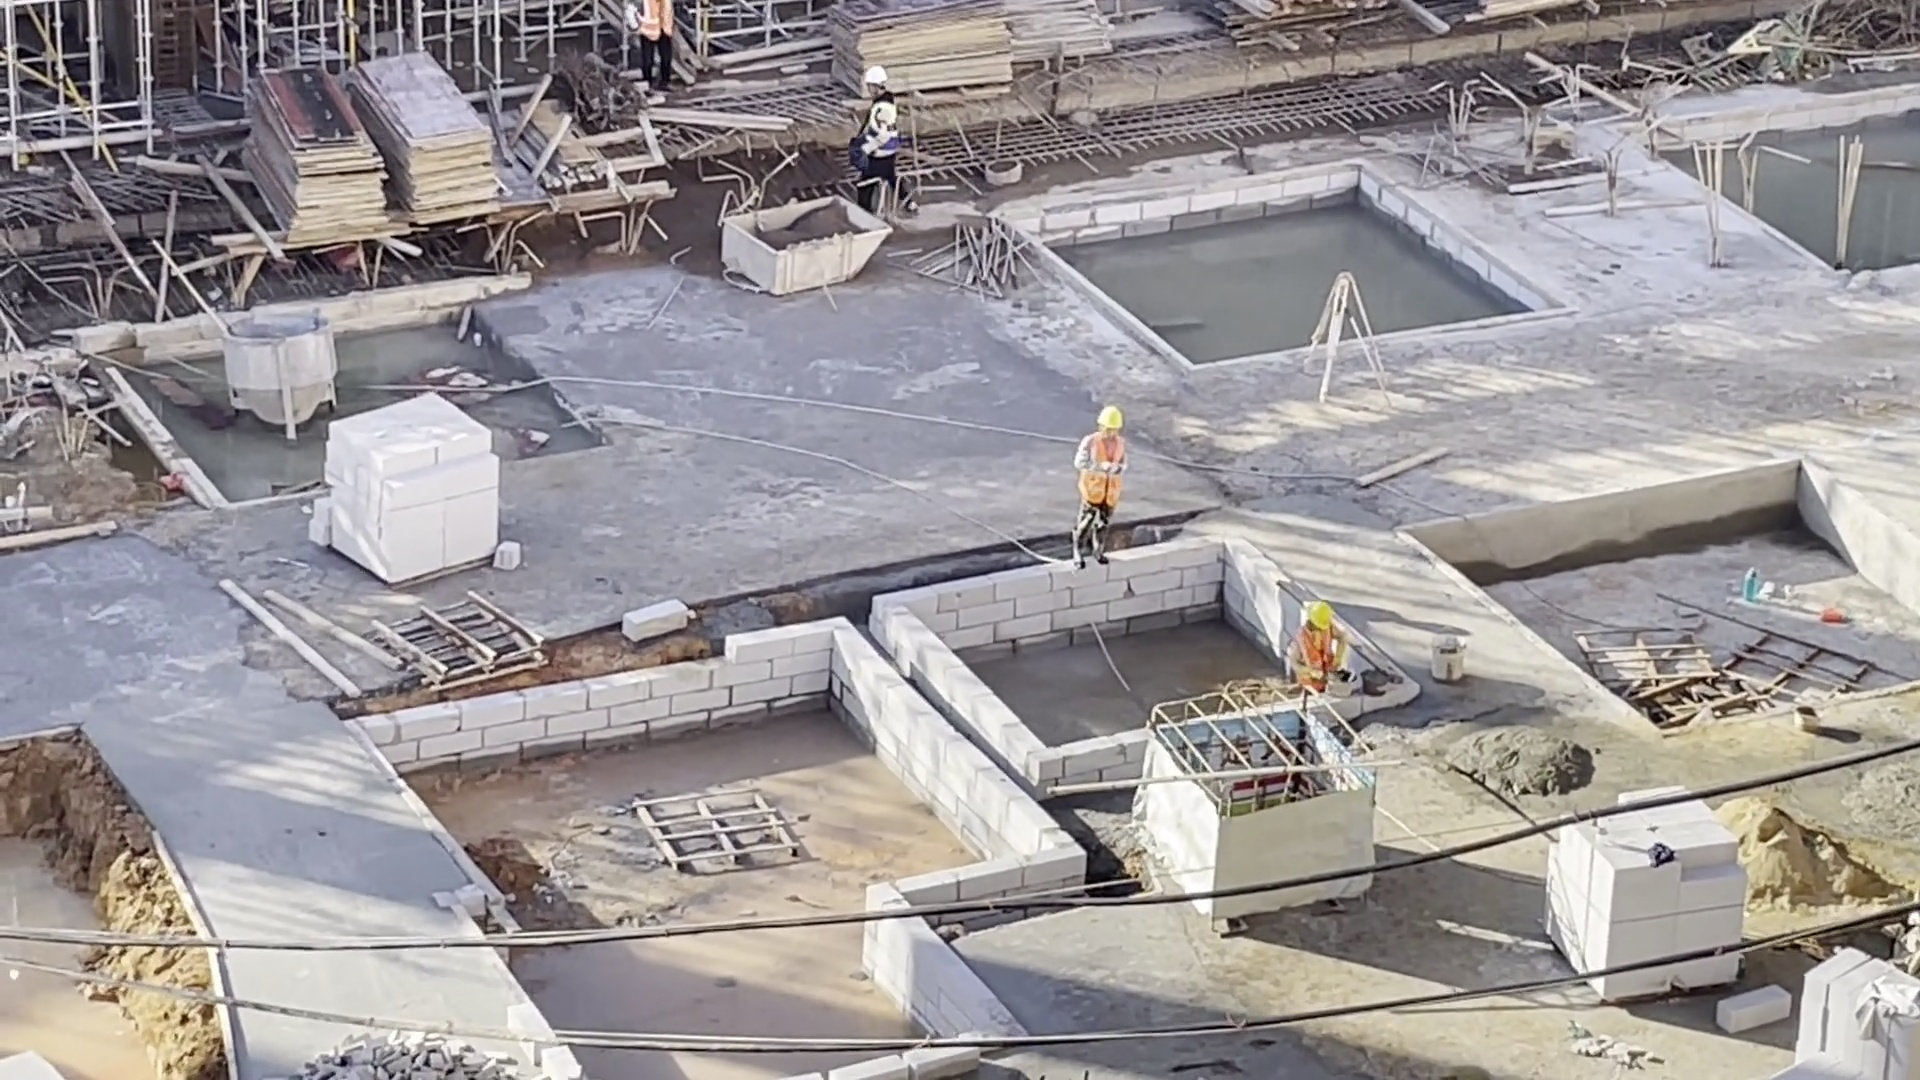board: (345, 45, 514, 223), (236, 65, 392, 249), (825, 4, 1019, 101)
brick: (315, 387, 498, 586), (1541, 832, 1752, 948), (1776, 939, 1913, 1080)
helmet: (1303, 599, 1337, 631), (1097, 405, 1126, 435), (861, 64, 891, 84)
hopper: (207, 301, 340, 442), (711, 197, 899, 295)
person: (1069, 406, 1135, 571), (849, 66, 919, 219), (1283, 597, 1353, 691), (619, 3, 688, 94)
vest: (1081, 433, 1126, 511), (1295, 623, 1339, 692), (866, 96, 902, 160), (633, 1, 675, 41)
